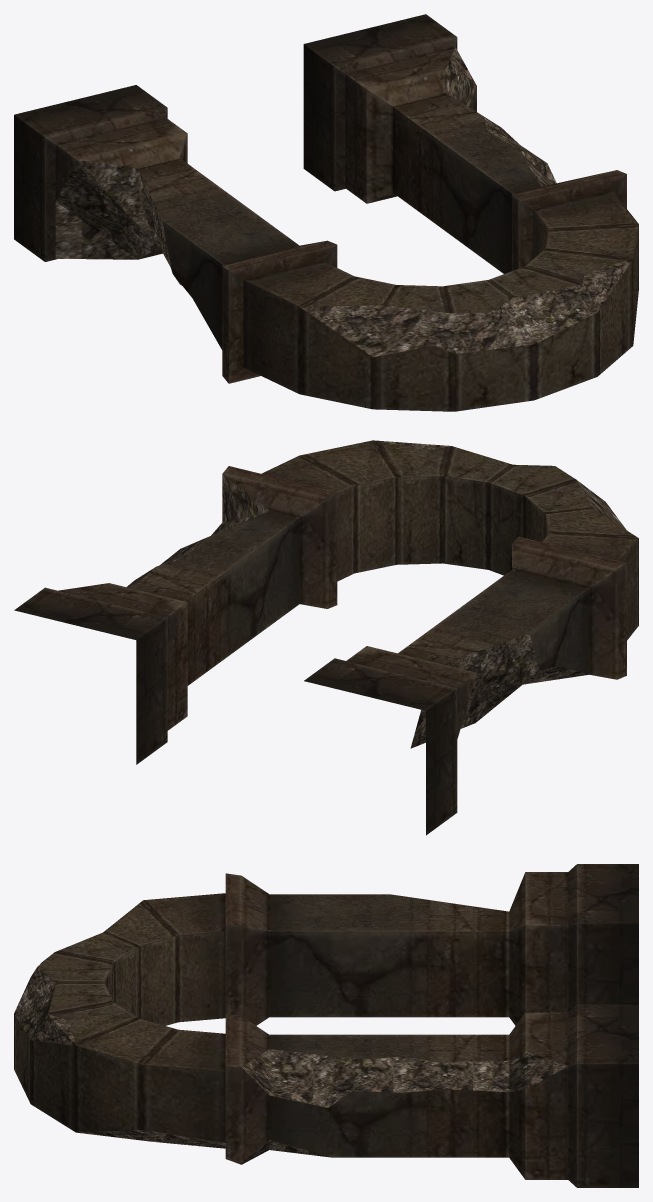
3 renders of one model, top to bottom at view 1: azimuth 30°, elevation 25°; view 2: azimuth 150°, elevation 25°; view 3: azimuth 270°, elevation 25°, orthographic.
Parts seen in each view (by area): view 1: model_Object10; view 2: model_Object10; view 3: model_Object10.
Part boxes in pixels (bbox=[...]): model_Object10: bbox=[14, 14, 638, 411]; model_Object10: bbox=[14, 440, 638, 835]; model_Object10: bbox=[14, 864, 638, 1187].
Bounding box in the file's own units: 1.98 × 0.572 × 2.61.
Materials: 2 (2 with a texture image).
